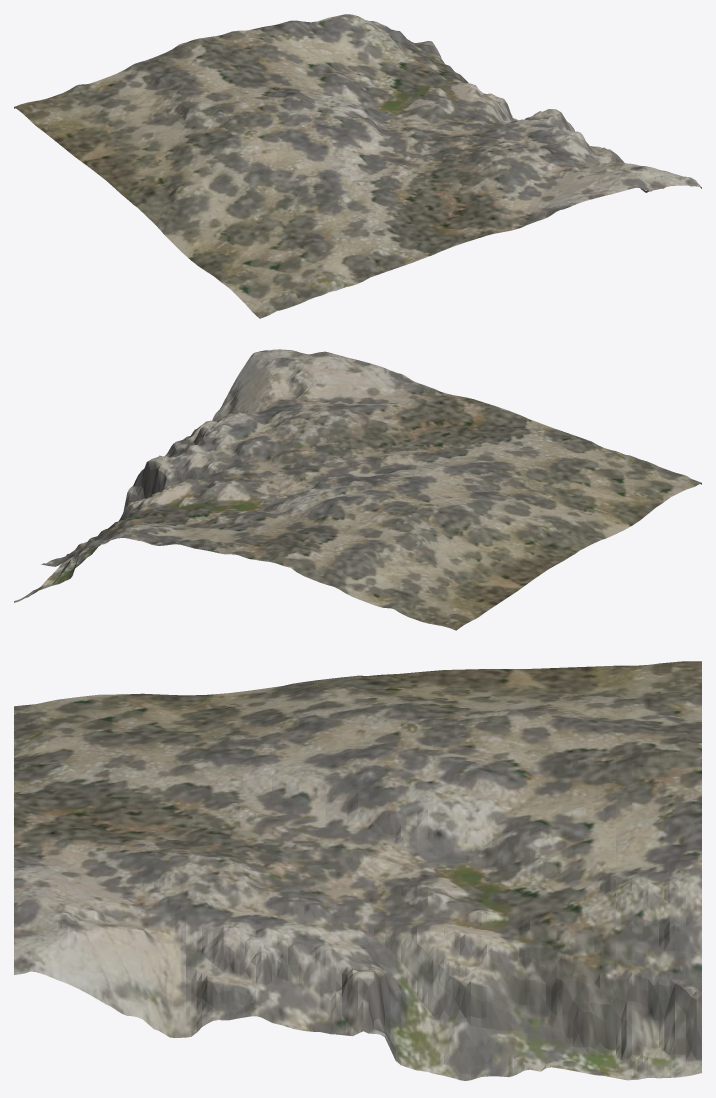
The picture shows the model from 3 angles, top to bottom: view 1: azimuth 30°, elevation 25°; view 2: azimuth 150°, elevation 25°; view 3: azimuth 270°, elevation 25°; orthographic projection. The views are drawn at different scales.
Bounding box in the file's own units: 250 × 59.77 × 241.
1 material, 1 textured.
